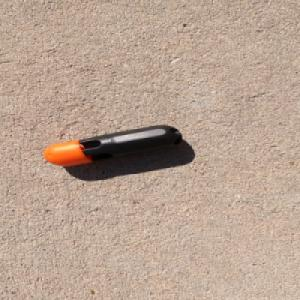PlasticPart: (41, 124, 184, 167)
